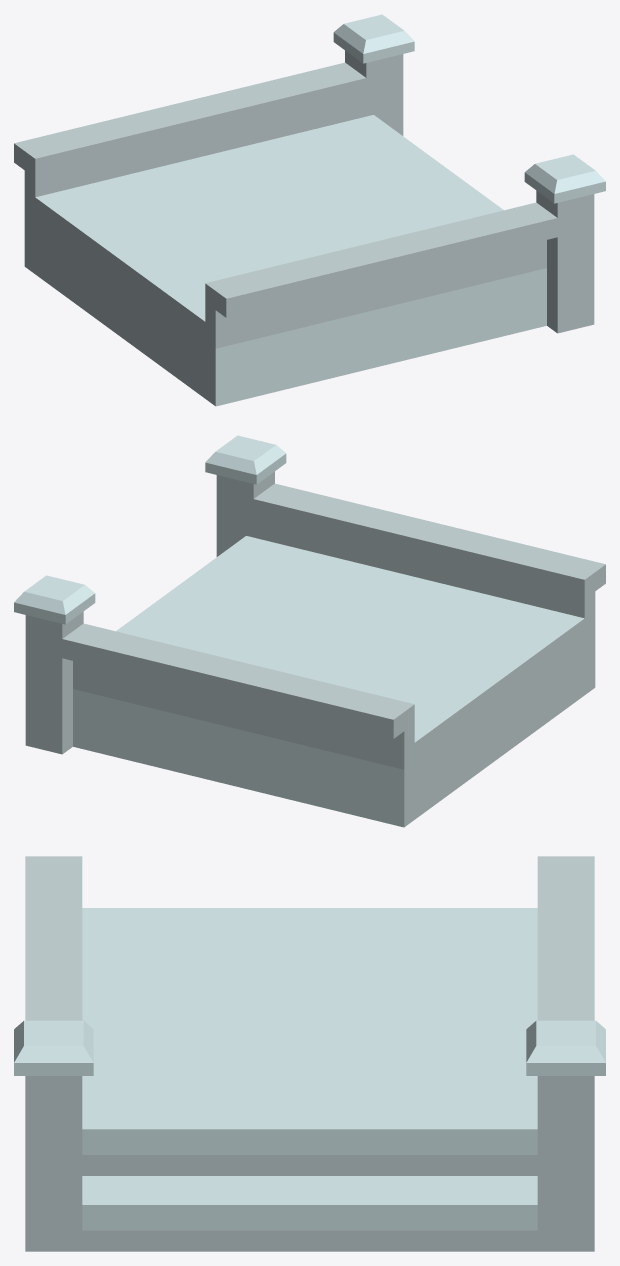
File: bridge_side_stone.gltf
3 renders of one model, top to bottom at view 1: azimuth 30°, elevation 25°; view 2: azimuth 150°, elevation 25°; view 3: azimuth 270°, elevation 25°, orthographic. The views are drawn at different scales.
Parts seen in each view (by area): view 1: bridge_side_stone; view 2: bridge_side_stone; view 3: bridge_side_stone.
Boxes of the visible parts, box(x1,y1,x2,y2) form: bridge_side_stone: box(14, 14, 605, 406); bridge_side_stone: box(14, 435, 605, 827); bridge_side_stone: box(14, 856, 605, 1251).
Bounding box in the file's own units: 1.02 × 0.4 × 1.04.
